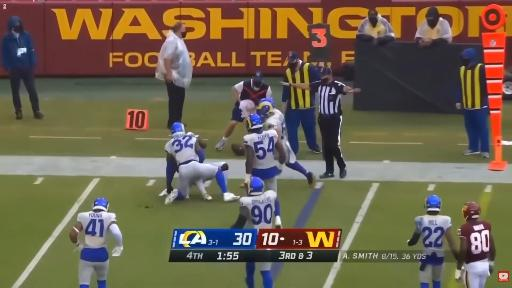Helmet: (258, 98, 275, 115), (463, 202, 480, 219), (248, 177, 264, 195), (246, 114, 262, 132), (425, 195, 441, 211), (93, 198, 109, 211), (171, 123, 185, 135)
Jersey: (78, 212, 116, 262), (415, 215, 451, 264), (244, 130, 280, 179), (458, 221, 491, 263), (240, 191, 277, 228), (165, 133, 198, 165), (266, 109, 287, 143)
Player: (165, 123, 239, 204), (258, 98, 314, 185), (70, 198, 122, 287), (408, 195, 457, 287), (456, 202, 495, 287), (244, 114, 285, 191), (232, 177, 281, 229), (159, 162, 177, 195), (159, 162, 176, 196)
